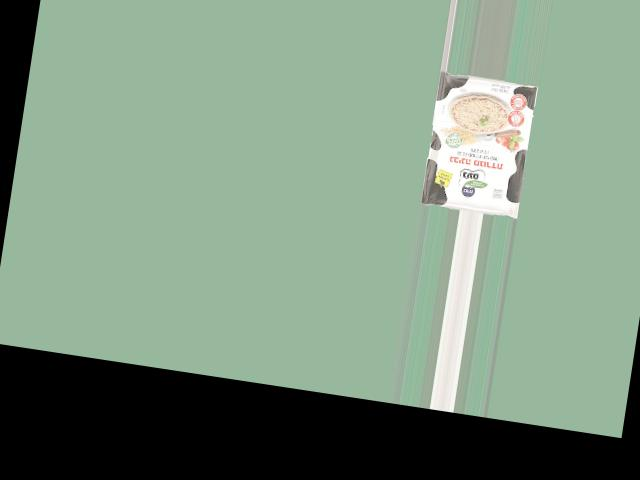cheese: (419, 77, 553, 211)
